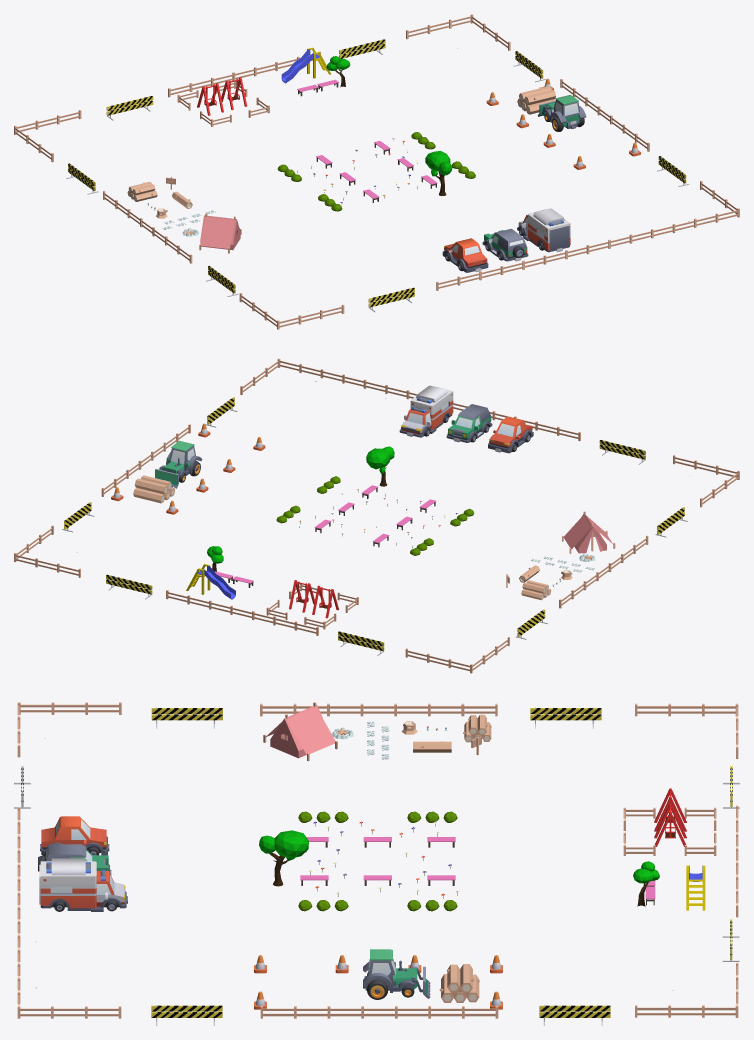
Rendered from GameMap.glb.
3 views of the same model, one above another, from view 1: azimuth 30°, elevation 25°; view 2: azimuth 150°, elevation 25°; view 3: azimuth 270°, elevation 25° (orthographic). The views are drawn at different scales.
Visible parts, largest first — view 1: body.002, tent_detailedOpen, body.001, body, body.003, log_stackLarge.001, slide, tree.001; view 2: body.002, body, tent_detailedOpen, body.001, body.003, log_stackLarge.001, slide, tree.001; view 3: body.002, tent_detailedOpen, body.001, body.003, tree.001, log_stackLarge.001, Wood Road Block Large.001, Wood Road Block Large.002, Wood Road Block Large.006, Wood Road Block Large.005, body, log_stackLarge (+2 smaller).
Part boxes in pixels (x1,y1,x2,y2): body.002: (517, 208, 570, 252); tent_detailedOpen: (199, 213, 241, 253); body.001: (442, 238, 488, 272); body: (482, 228, 528, 261); body.003: (544, 95, 586, 128); log_stackLarge.001: (517, 86, 555, 114); slide: (281, 47, 331, 83); tree.001: (425, 151, 452, 195); body.002: (399, 385, 453, 437); body: (446, 404, 492, 442); tent_detailedOpen: (562, 511, 615, 553); body.001: (488, 416, 533, 453); body.003: (161, 441, 202, 475); log_stackLarge.001: (133, 475, 175, 503); slide: (186, 564, 235, 599); tree.001: (366, 446, 394, 486); body.002: (40, 858, 127, 911); tent_detailedOpen: (263, 702, 337, 761); body.001: (40, 816, 109, 855); body.003: (363, 949, 417, 992); tree.001: (259, 830, 308, 886); log_stackLarge.001: (439, 964, 479, 1002); Wood Road Block Large.001: (539, 1005, 610, 1025); Wood Road Block Large.002: (151, 1005, 222, 1025); Wood Road Block Large.006: (151, 707, 222, 728); Wood Road Block Large.005: (530, 707, 601, 728); body: (43, 844, 111, 875); log_stackLarge: (463, 714, 491, 742).
Size of the model in its own units: 79.63 by 7.3 by 79.98.
Materials: 321 (17 with a texture image).
